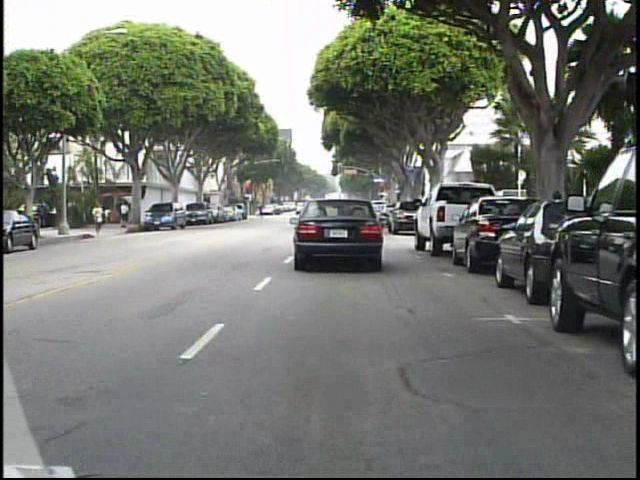person: (90, 198, 108, 238), (120, 198, 134, 232), (255, 200, 271, 224)
